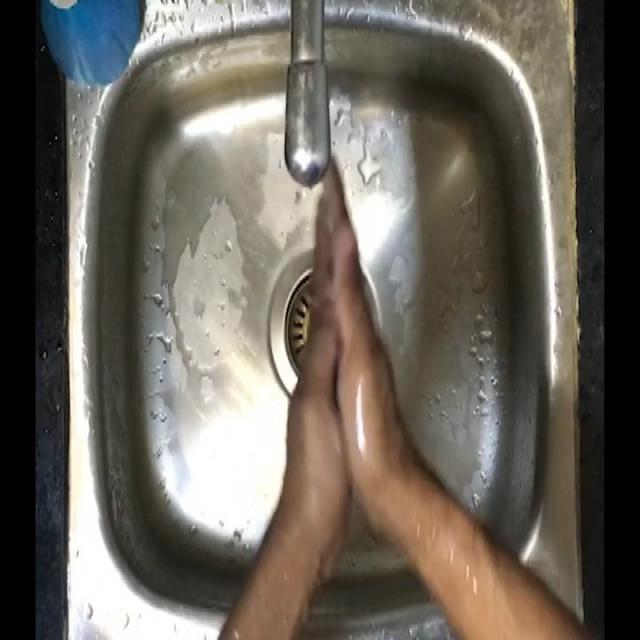step_1: (269, 126, 405, 522)
